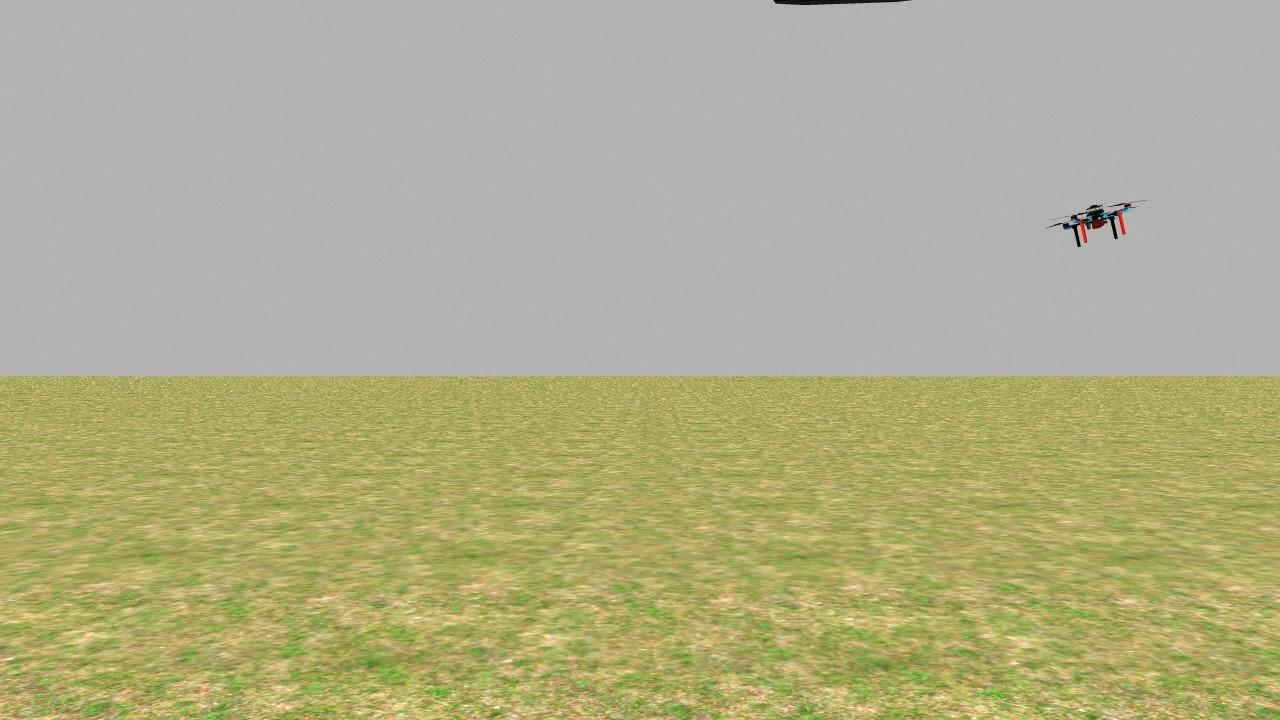UAV: (1058, 197, 1141, 248)
